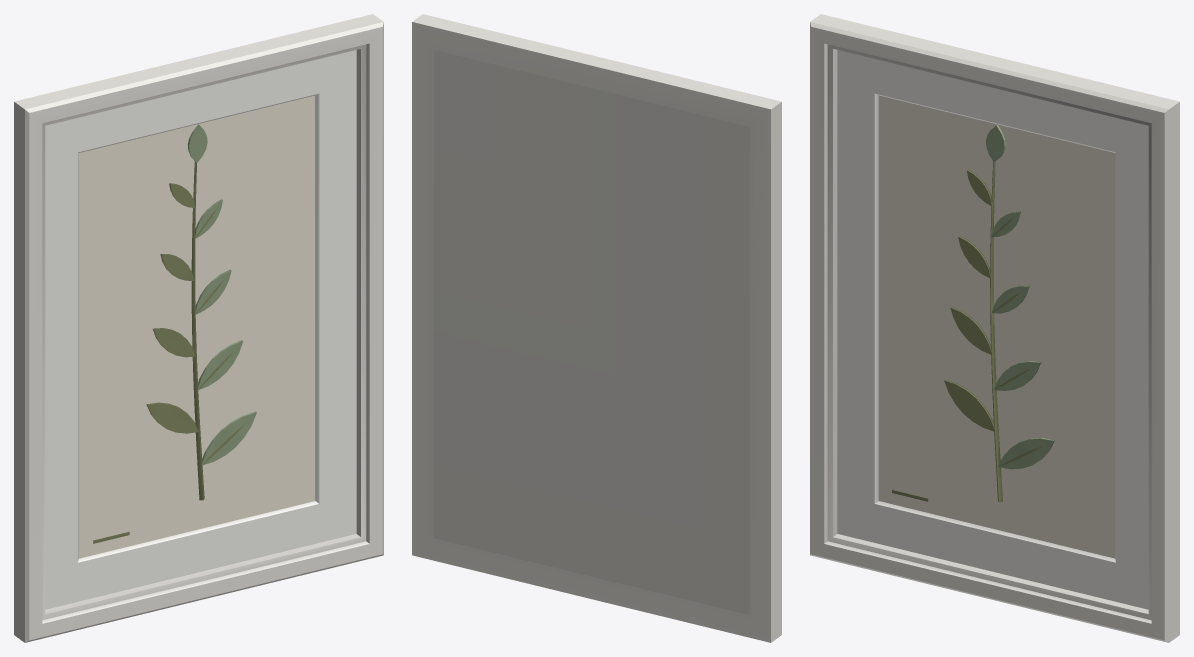
File: printFramed.glb
3 renders of one model, left to right at view 1: azimuth 30°, elevation 25°; view 2: azimuth 150°, elevation 25°; view 3: azimuth 330°, elevation 25°, orthographic.
Visible parts, largest first — view 1: printFramed; view 2: printFramed; view 3: printFramed.
Part boxes in pixels (bbox=[...]): printFramed: bbox=[14, 14, 383, 642]; printFramed: bbox=[412, 14, 781, 642]; printFramed: bbox=[810, 14, 1179, 642].
Size of the model in its own units: 0.5 by 0.71 by 0.03.
